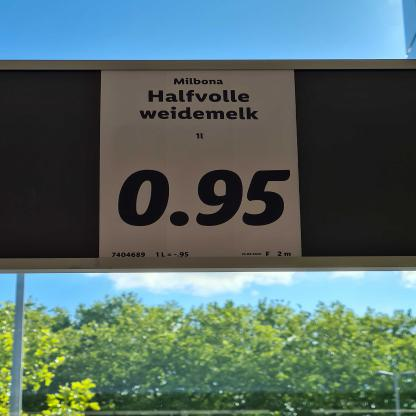prtg: (100, 71, 303, 258)
